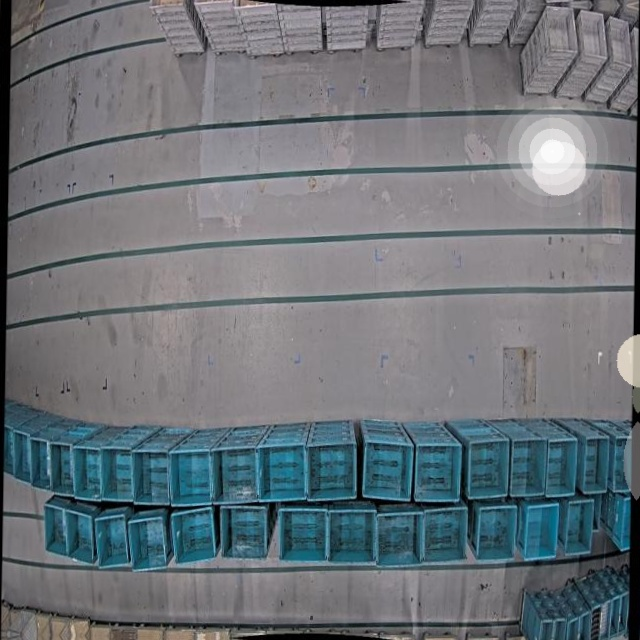Box: (306, 438, 359, 501), (362, 436, 413, 501), (413, 438, 462, 503), (327, 505, 377, 567), (278, 505, 328, 566), (421, 503, 469, 566), (260, 441, 308, 503), (219, 503, 269, 562), (466, 436, 510, 502), (374, 508, 421, 569), (473, 502, 518, 564), (168, 447, 214, 507), (172, 506, 217, 567), (218, 443, 260, 505), (127, 513, 167, 572), (523, 501, 559, 561), (94, 511, 130, 569), (544, 434, 577, 495), (137, 448, 171, 506), (563, 497, 595, 557), (515, 435, 546, 496), (65, 509, 96, 564), (580, 433, 608, 493), (75, 443, 104, 500), (107, 445, 135, 502), (43, 502, 68, 559), (50, 440, 75, 496), (29, 435, 52, 489), (611, 434, 632, 492), (609, 493, 630, 550), (13, 429, 31, 485), (4, 423, 15, 477), (618, 587, 629, 640), (600, 598, 611, 640), (552, 616, 567, 640), (578, 610, 590, 640), (536, 619, 552, 640), (591, 603, 600, 640), (147, 0, 184, 9), (611, 594, 618, 640), (567, 616, 579, 640)
